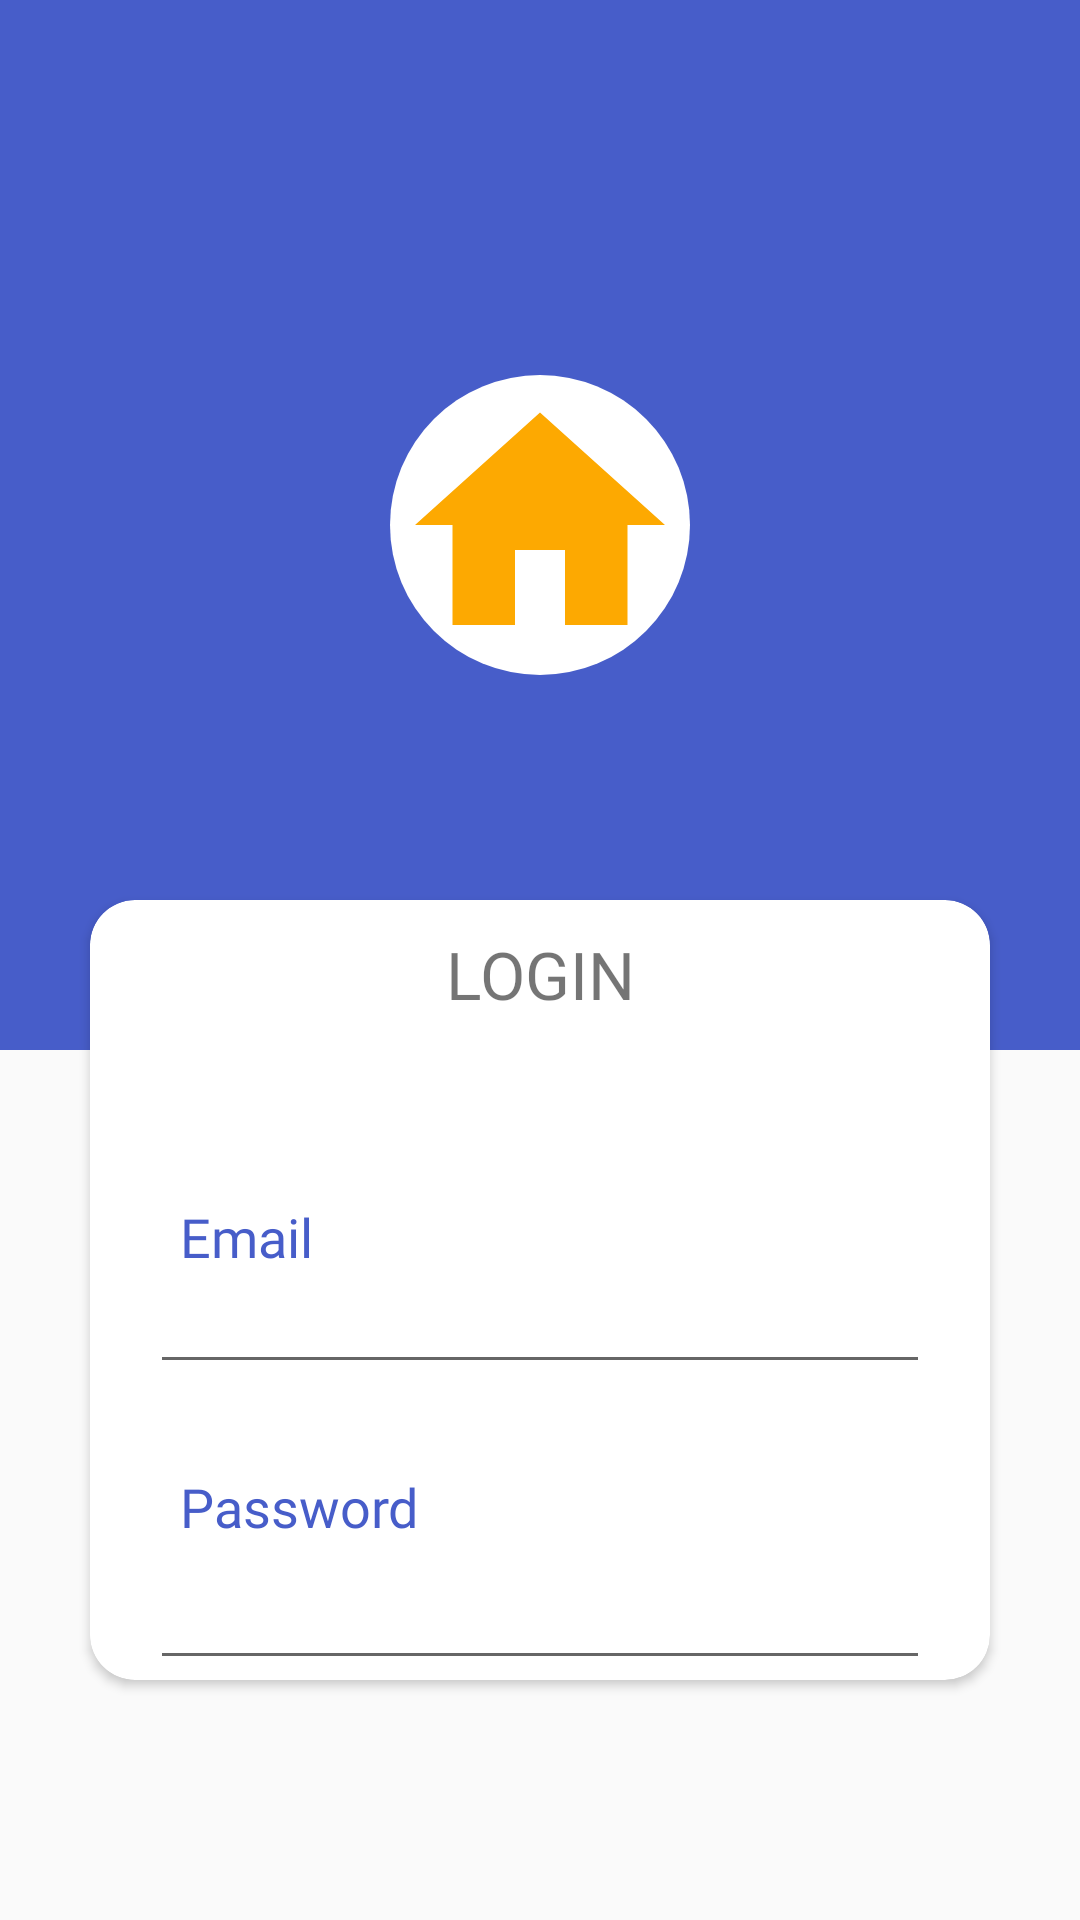

Named icons in this screenshot (1080x1920) and their centers, (x=x, y=y):
home: (x=540, y=525)
